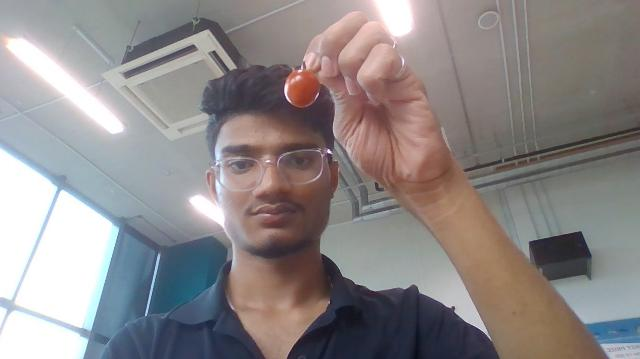Fully Grown: (283, 63, 323, 110)
